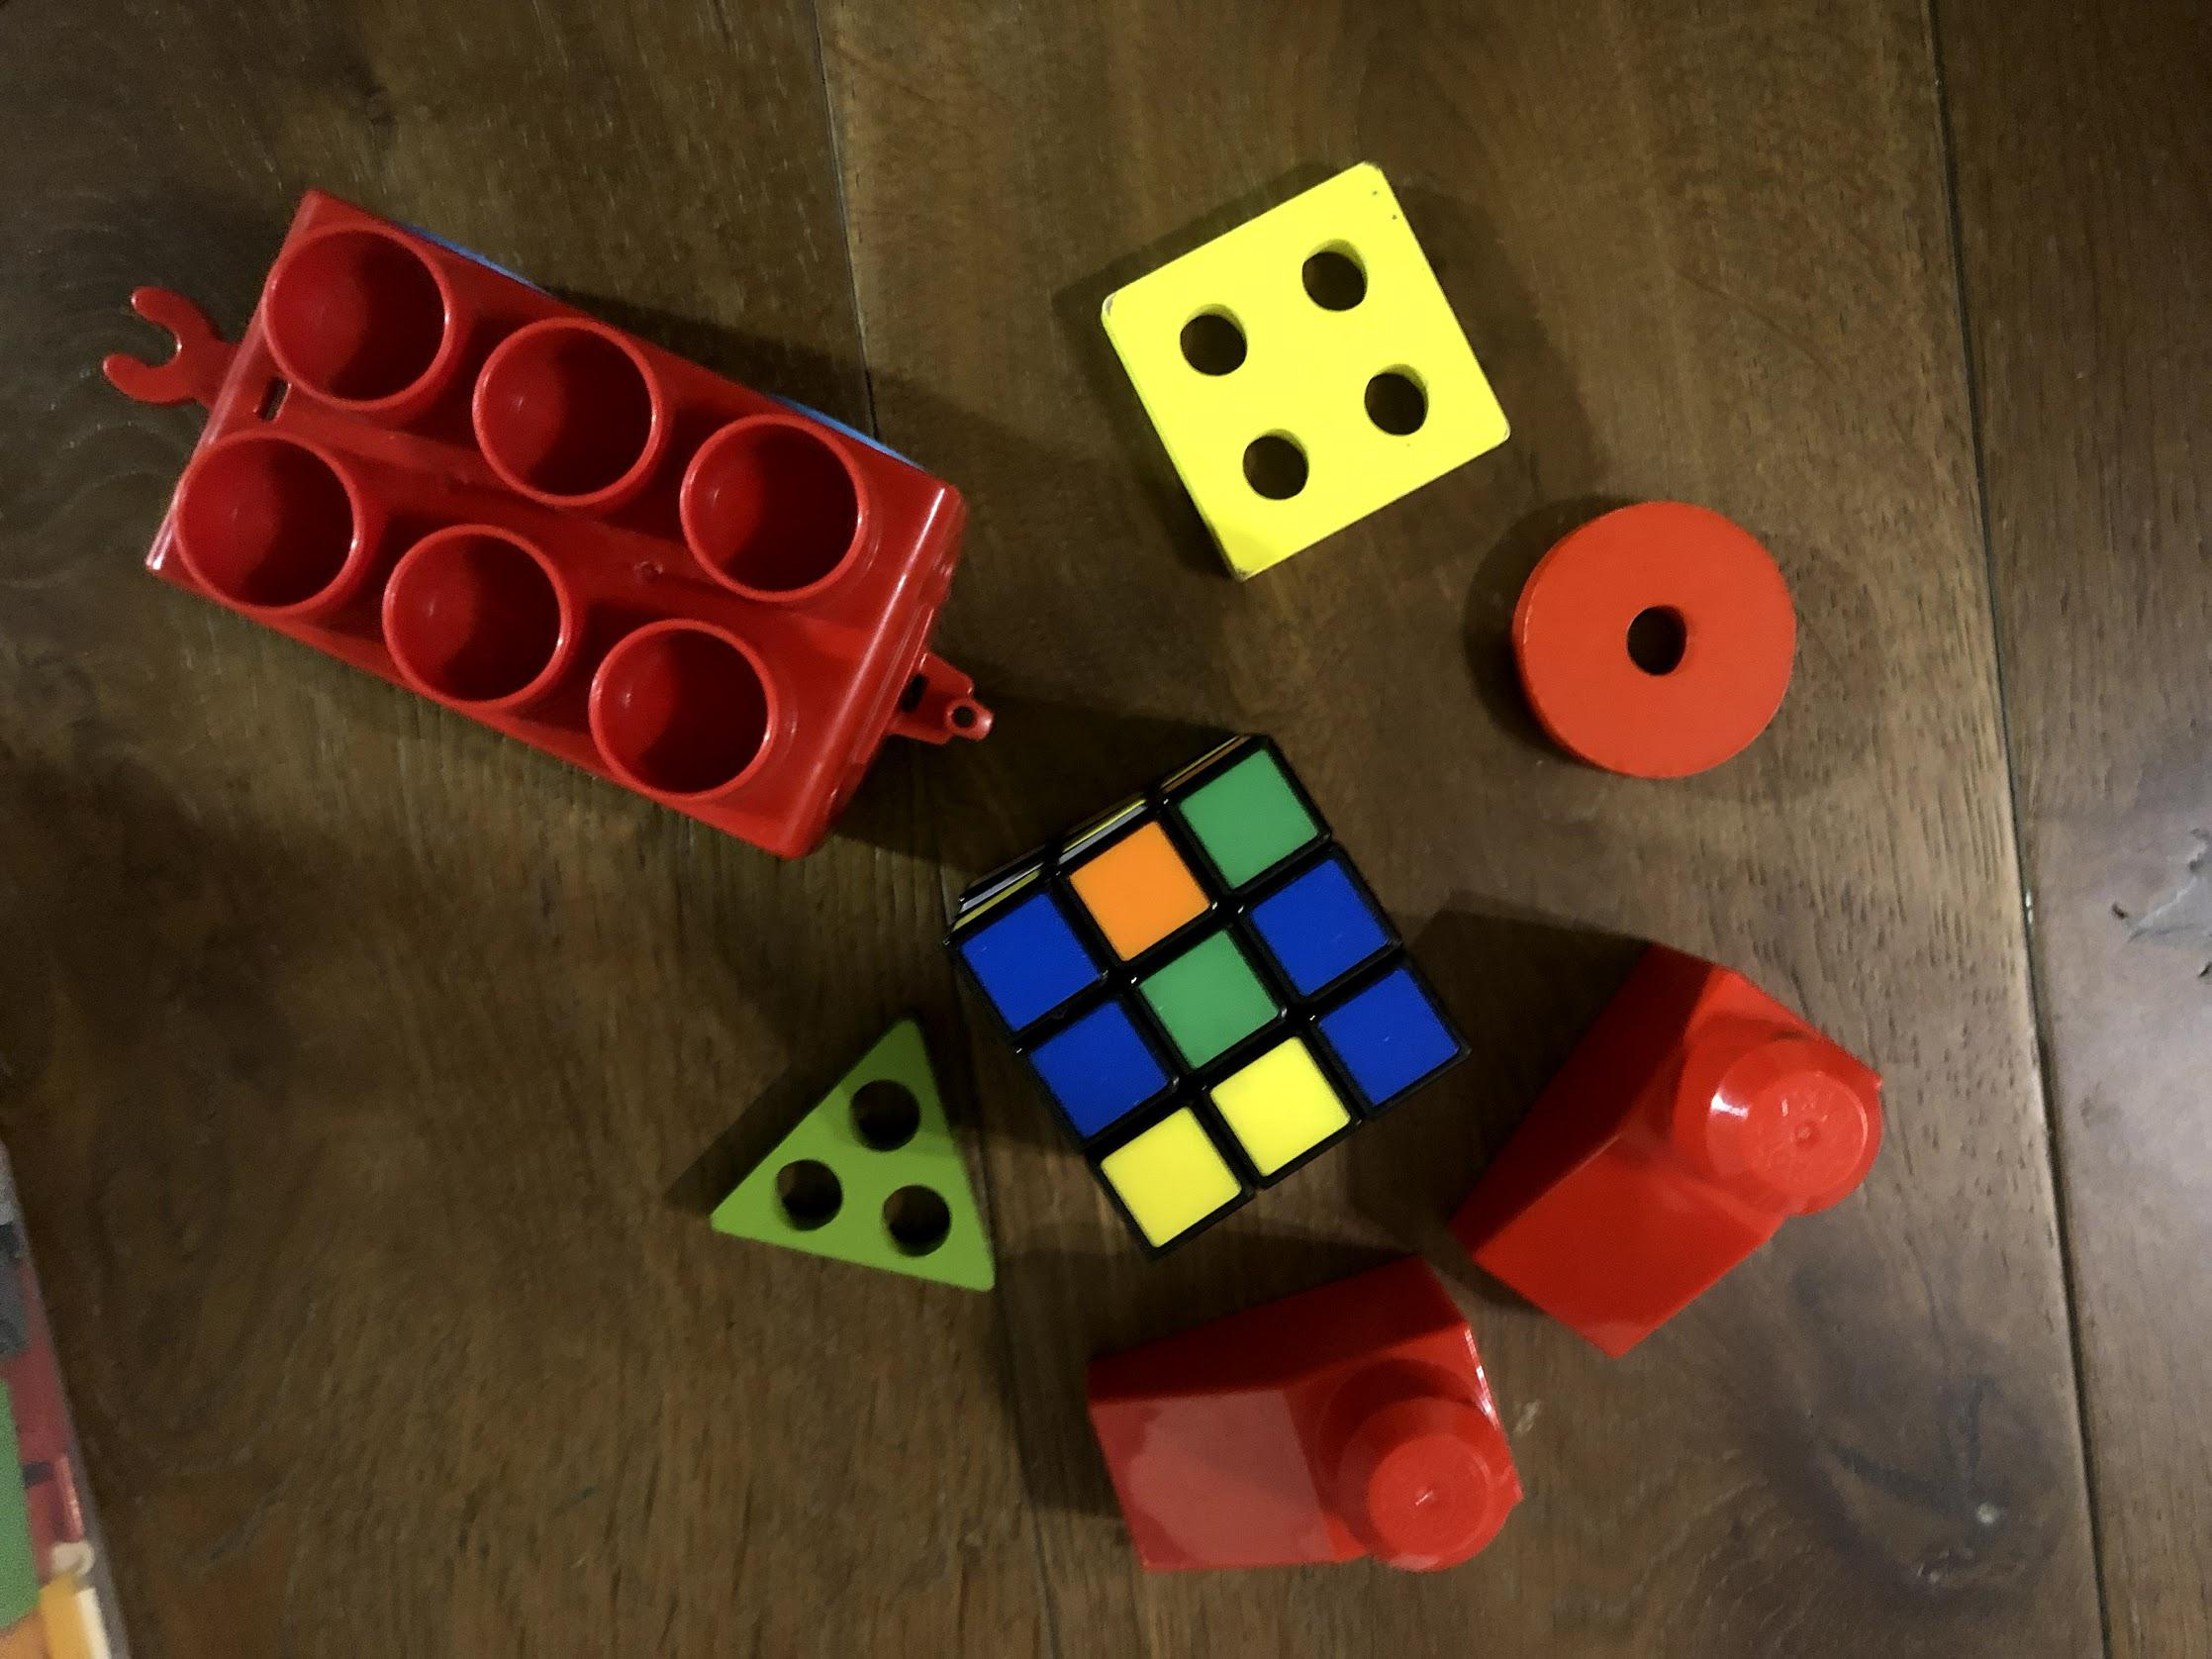Circle: (1524, 493, 1801, 774)
Square: (1104, 159, 1507, 584)
Triangle: (707, 1016, 988, 1298)
